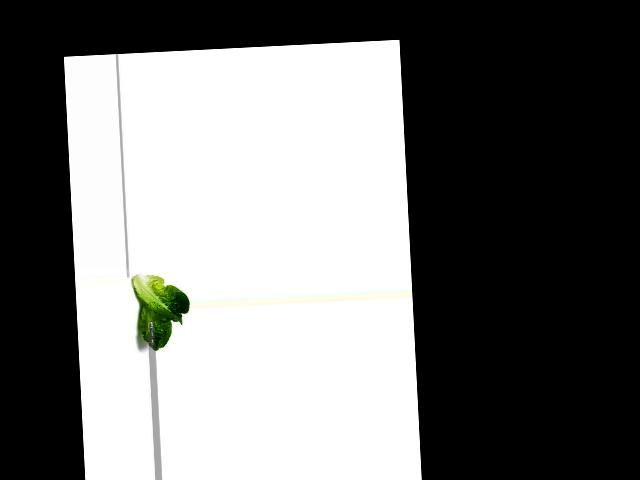lettuce: (134, 269, 192, 353)
